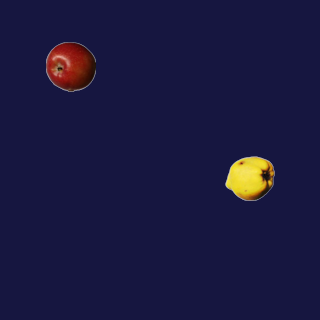Apple Braeburn: (45, 41, 95, 91)
Quince: (224, 153, 274, 203)
